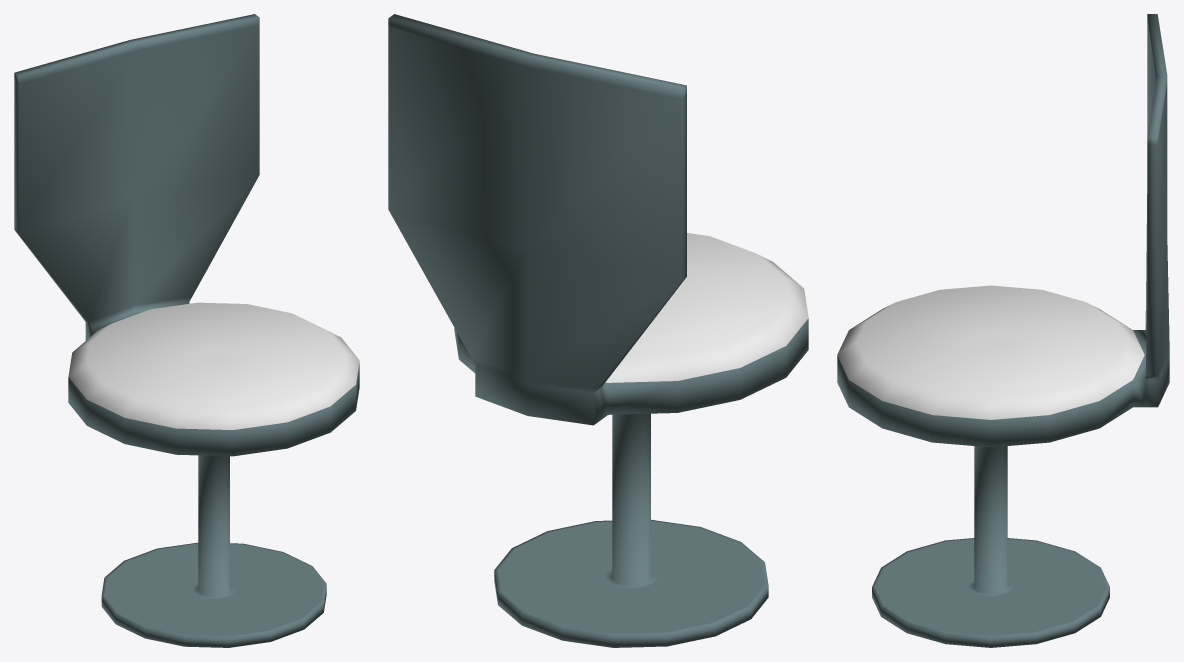
File: chair.gltf
3 views of the same model, side by side, from view 1: azimuth 30°, elevation 25°; view 2: azimuth 150°, elevation 25°; view 3: azimuth 270°, elevation 25° (orthographic). The views are drawn at different scales.
Visible parts, largest first — view 1: Chair; view 2: Chair; view 3: Chair.
Boxes of the visible parts, <box> form: Chair: <box>14,14,359,647</box>; Chair: <box>388,14,808,647</box>; Chair: <box>837,14,1169,647</box>.
Bounding box in the file's own units: 0.6093 × 1.14 × 0.6588.
